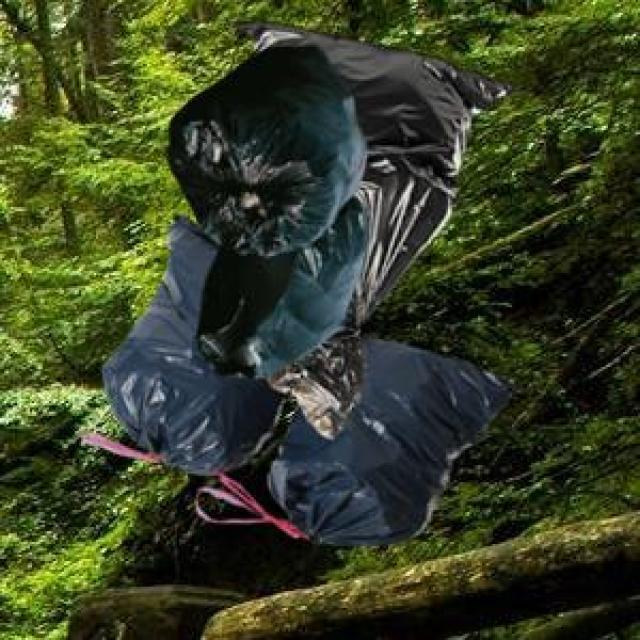waste: (104, 28, 510, 546)
